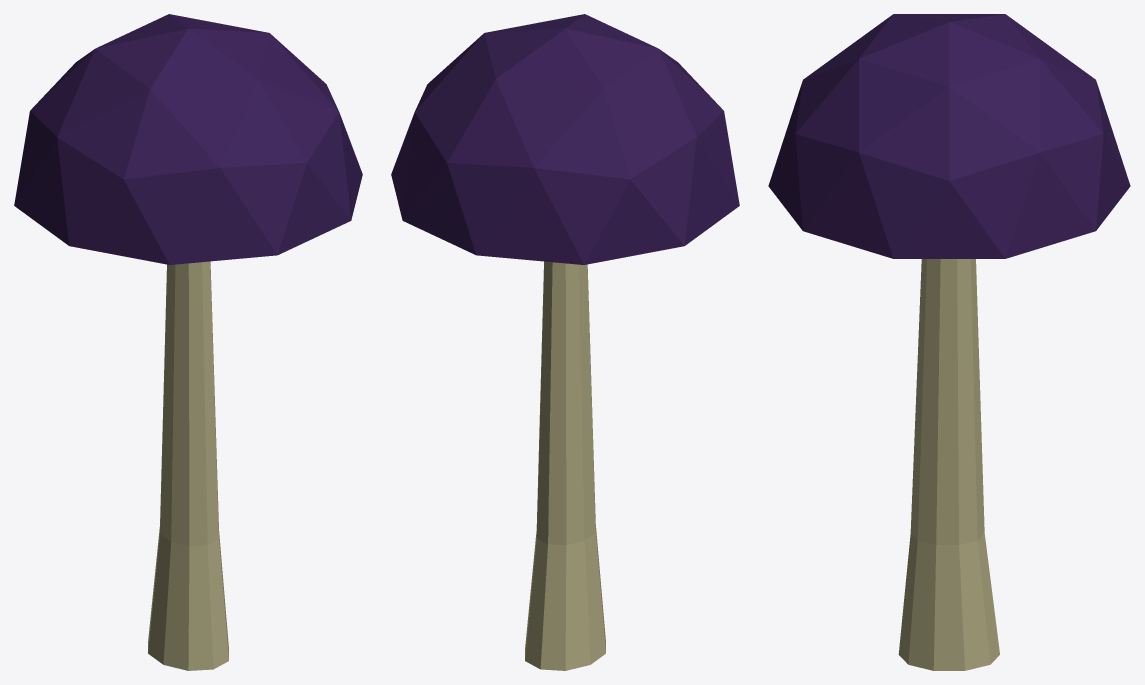
The model's file is mushroom02_purple.fbx.
3 renders of one model, left to right at view 1: azimuth 30°, elevation 25°; view 2: azimuth 150°, elevation 25°; view 3: azimuth 270°, elevation 25°, orthographic.
Parts seen in each view (by area): view 1: mushroom02_purple; view 2: mushroom02_purple; view 3: mushroom02_purple.
Part boxes in pixels (left/top/right/bottom): mushroom02_purple: left=14, top=14, right=362, bottom=670; mushroom02_purple: left=391, top=14, right=739, bottom=670; mushroom02_purple: left=768, top=14, right=1130, bottom=670.
Size of the model in its own units: 46.13 by 93.47 by 48.51.
